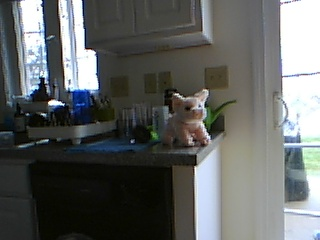piggy: (162, 87, 211, 148)
